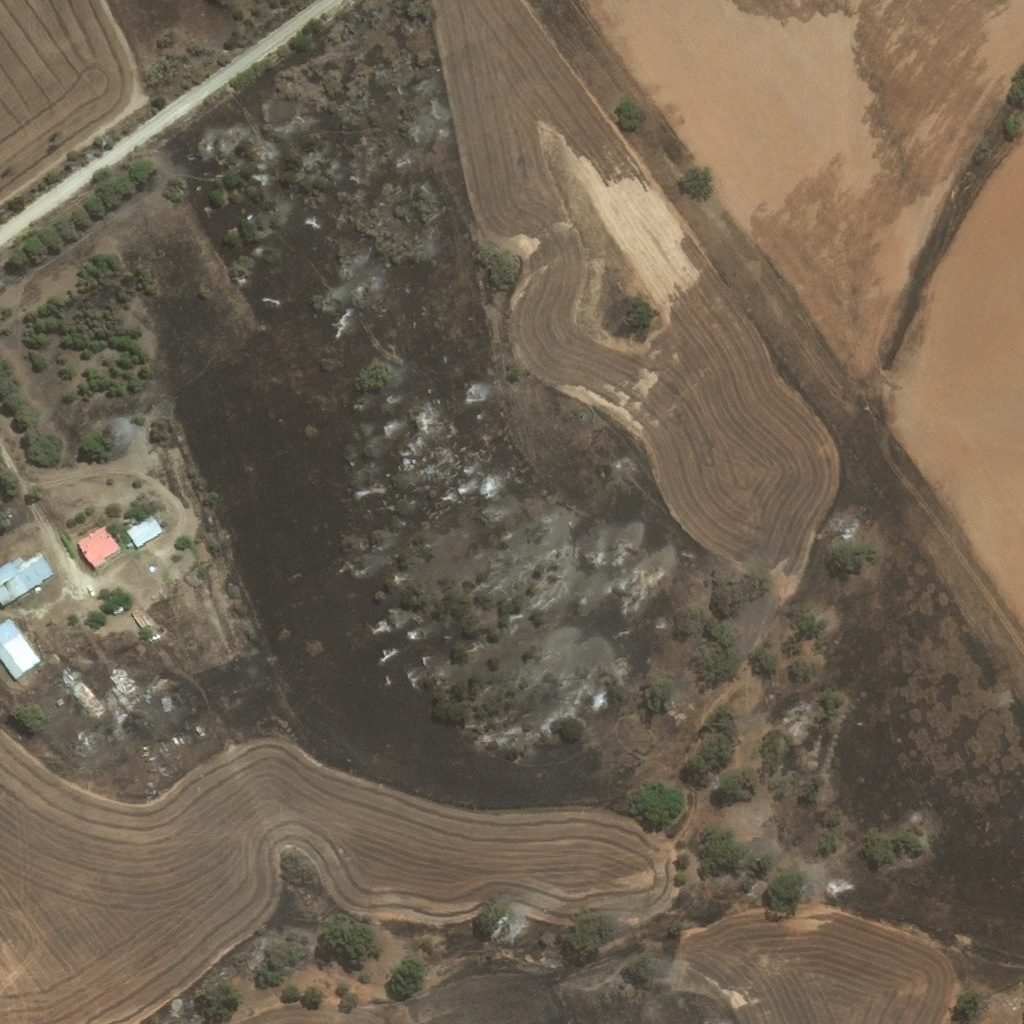0 no-damage: (0, 550, 55, 606), (0, 617, 42, 680), (77, 524, 121, 567), (125, 514, 163, 549)
2 major-damage: (69, 679, 102, 716), (132, 607, 160, 643)
3 destroyed: (110, 671, 139, 703), (162, 696, 173, 712)
